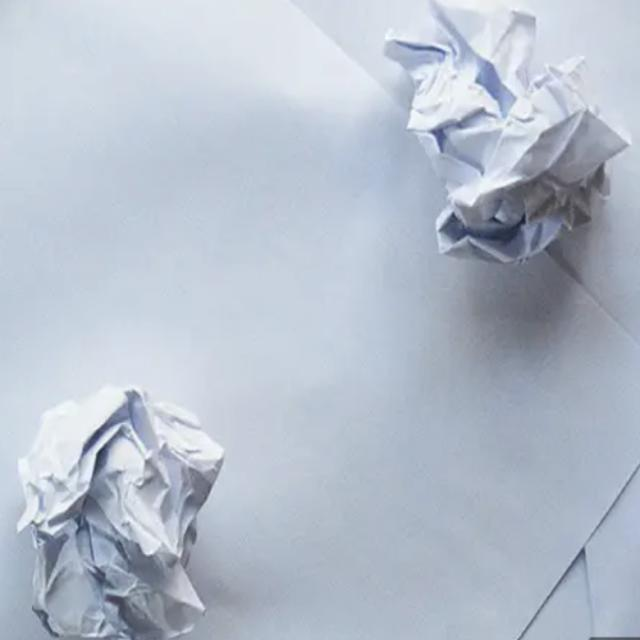biodegradable: (361, 0, 640, 305), (12, 323, 242, 640)
